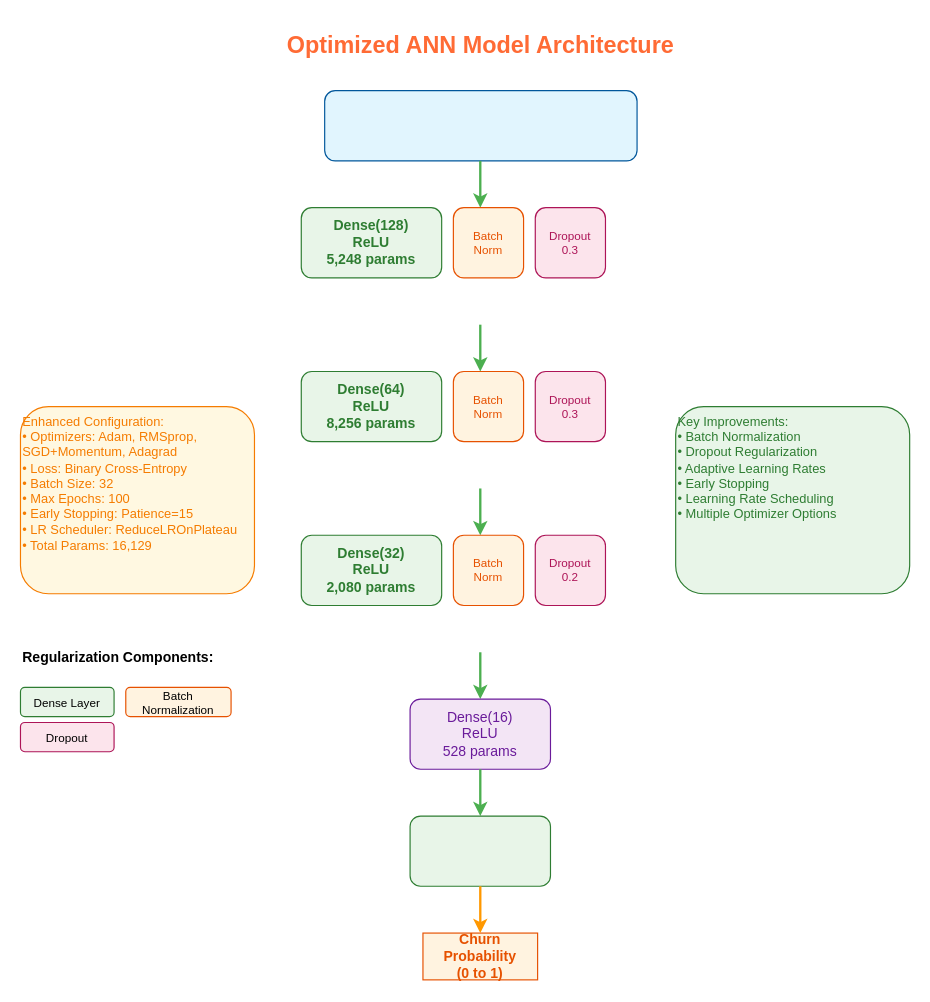
This 930x1002 diagram has some shape labels left out. Each missing label, with the centre of its shape:
"Input Layer (40 Features)" goes at [480,125].
"Output Layer Dense(1) Sigmoid 17 params" goes at [479,850].
